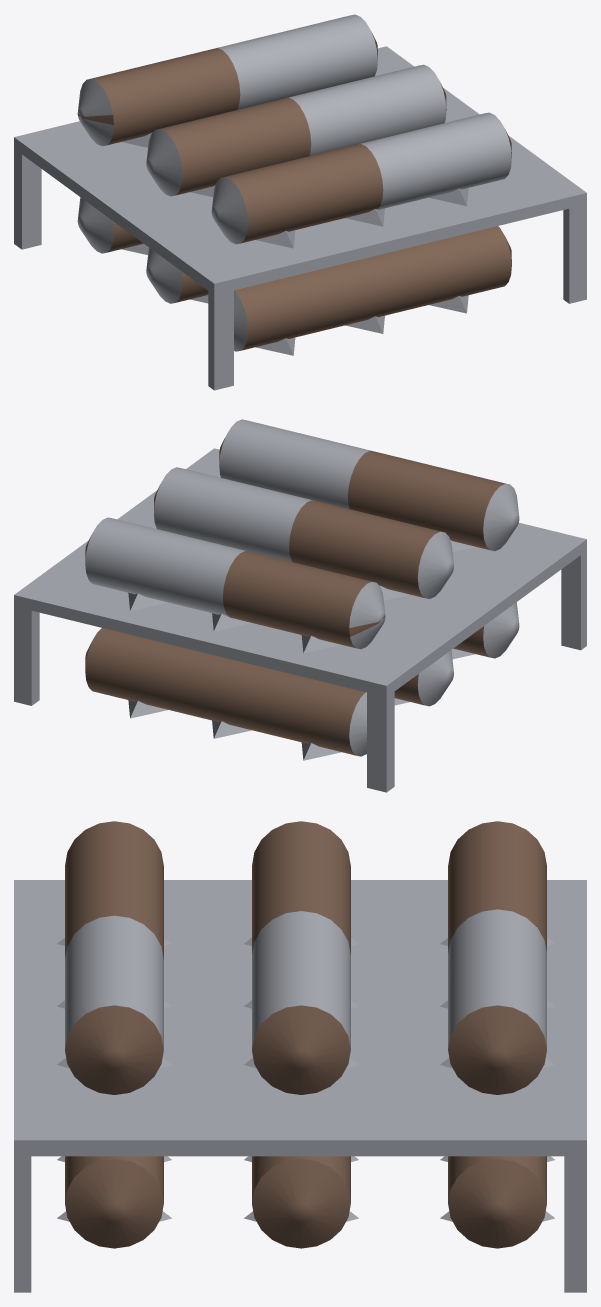
File: fang4.dae
3 views of the same model, one above another, from view 1: azimuth 30°, elevation 25°; view 2: azimuth 150°, elevation 25°; view 3: azimuth 270°, elevation 25° (orthographic). The views are drawn at different scales.
Visible parts, largest first — view 1: group7_pasted__pasted__polySurface1_pasted__group5.1; view 2: group7_pasted__pasted__polySurface1_pasted__group5.1; view 3: group7_pasted__pasted__polySurface1_pasted__group5.1.
Part boxes in pixels (x1,y1,x2,y2): group7_pasted__pasted__polySurface1_pasted__group5.1: (14, 14, 586, 390); group7_pasted__pasted__polySurface1_pasted__group5.1: (14, 419, 586, 792); group7_pasted__pasted__polySurface1_pasted__group5.1: (14, 821, 586, 1292).
Size of the model in its own units: 0.00835 by 0.00371 by 0.00778.
